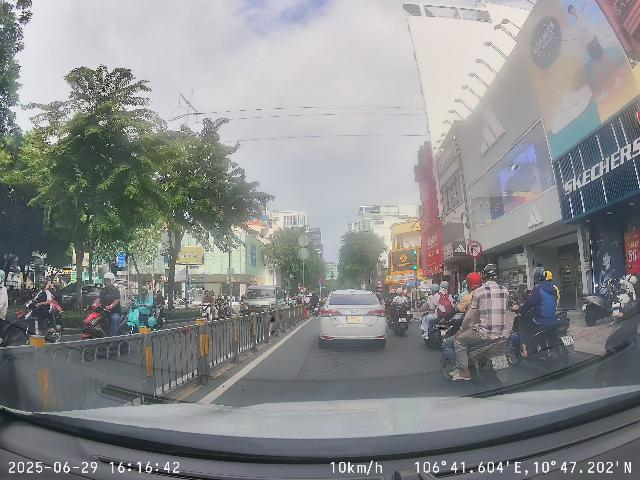123b-cam-re-phai: (467, 240, 482, 258)
